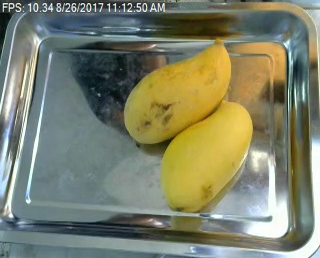Mango: (124, 36, 233, 144), (158, 97, 259, 213)
